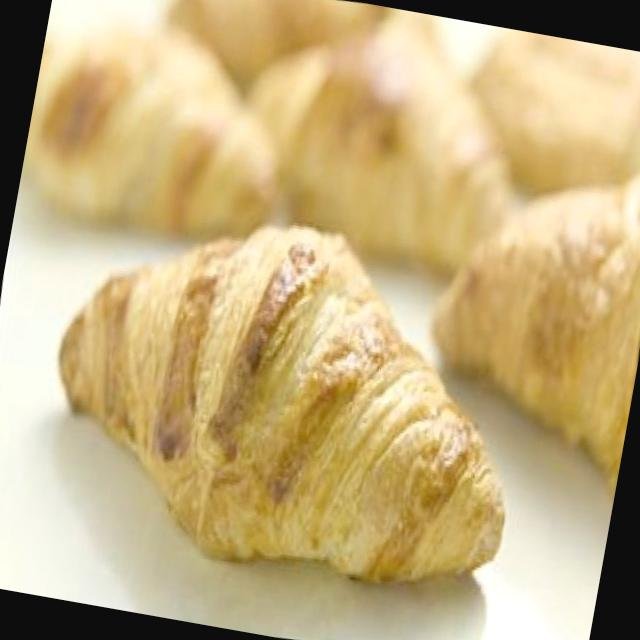Croissant: (11, 162, 563, 628)
